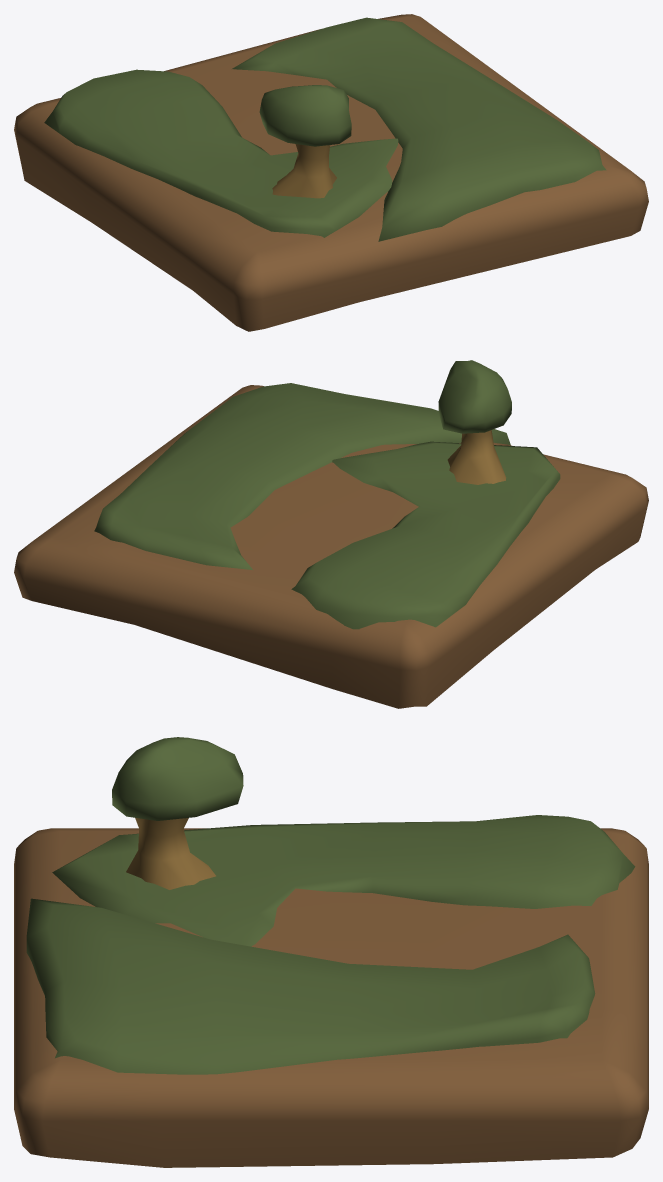
Rendered from Tile_4.fbx.
3 views of the same model, one above another, from view 1: azimuth 30°, elevation 25°; view 2: azimuth 150°, elevation 25°; view 3: azimuth 270°, elevation 25° (orthographic). The views are drawn at different scales.
Visible parts, largest first — view 1: Tile_4; view 2: Tile_4; view 3: Tile_4.
Boxes of the visible parts, <box> form: Tile_4: <box>14,14,648,331</box>; Tile_4: <box>14,360,648,708</box>; Tile_4: <box>14,737,648,1167</box>.
Bounding box in the file's own units: 1 × 0.4344 × 1.
